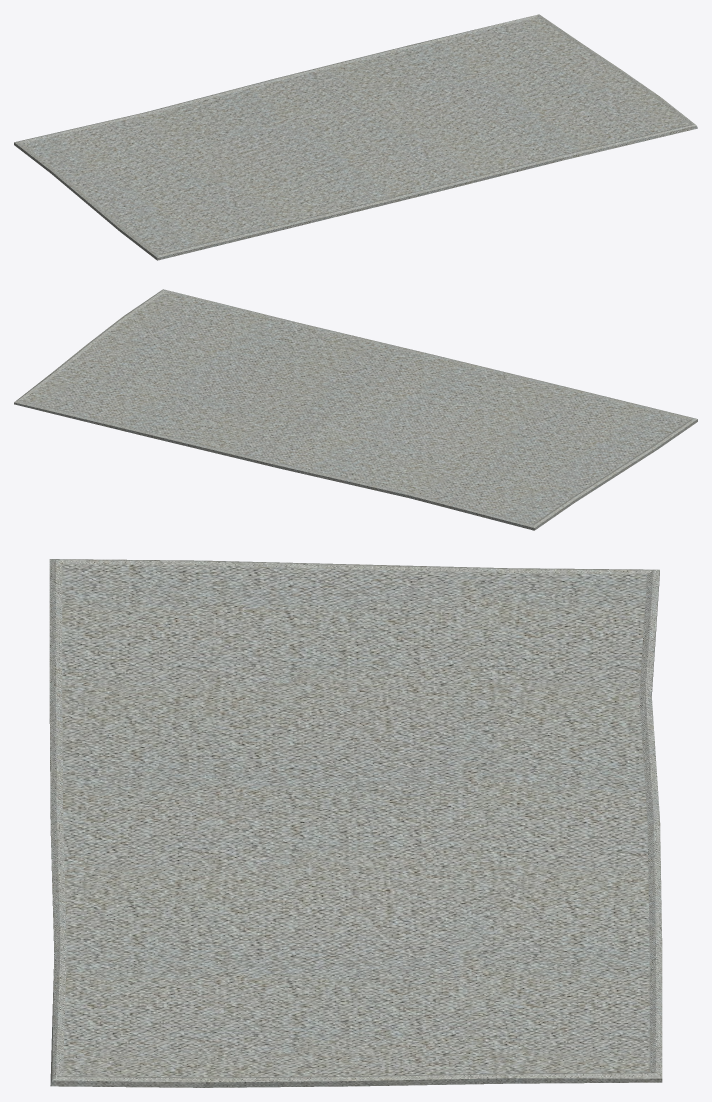
Rendered from carpet.glb.
The picture shows the model from 3 angles, top to bottom: view 1: azimuth 30°, elevation 25°; view 2: azimuth 150°, elevation 25°; view 3: azimuth 270°, elevation 25°; orthographic projection. The views are drawn at different scales.
Visible parts, largest first — view 1: Carpet1_low; view 2: Carpet1_low; view 3: Carpet1_low.
Part boxes in pixels (left/top/right/bottom): Carpet1_low: left=14, top=14, right=697, bottom=260; Carpet1_low: left=14, top=289, right=697, bottom=530; Carpet1_low: left=49, top=559, right=662, bottom=1087.
Bounding box in the file's own units: 245 × 2.25 × 121.
Materials: 1 (1 with a texture image).
